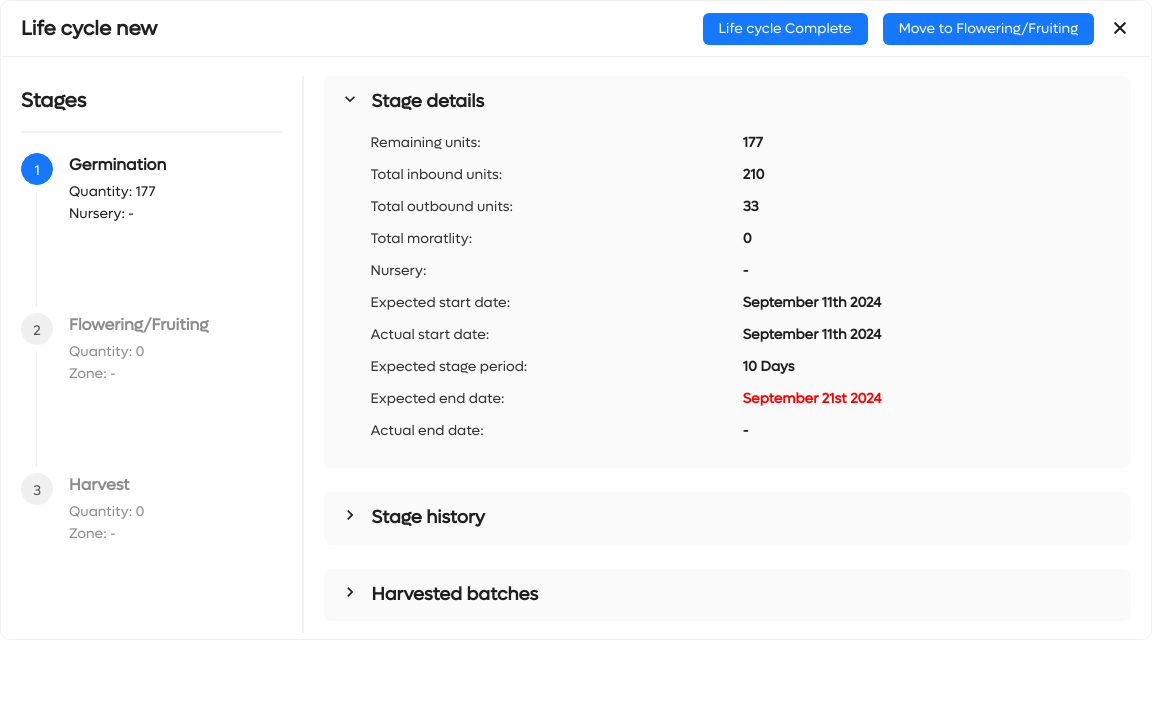
Scenario: Add Update lifecycle page › should render error state at the time of request complete life cycle process
Click the button "Life cycle Complete": (785, 28) [703,12,868,44]
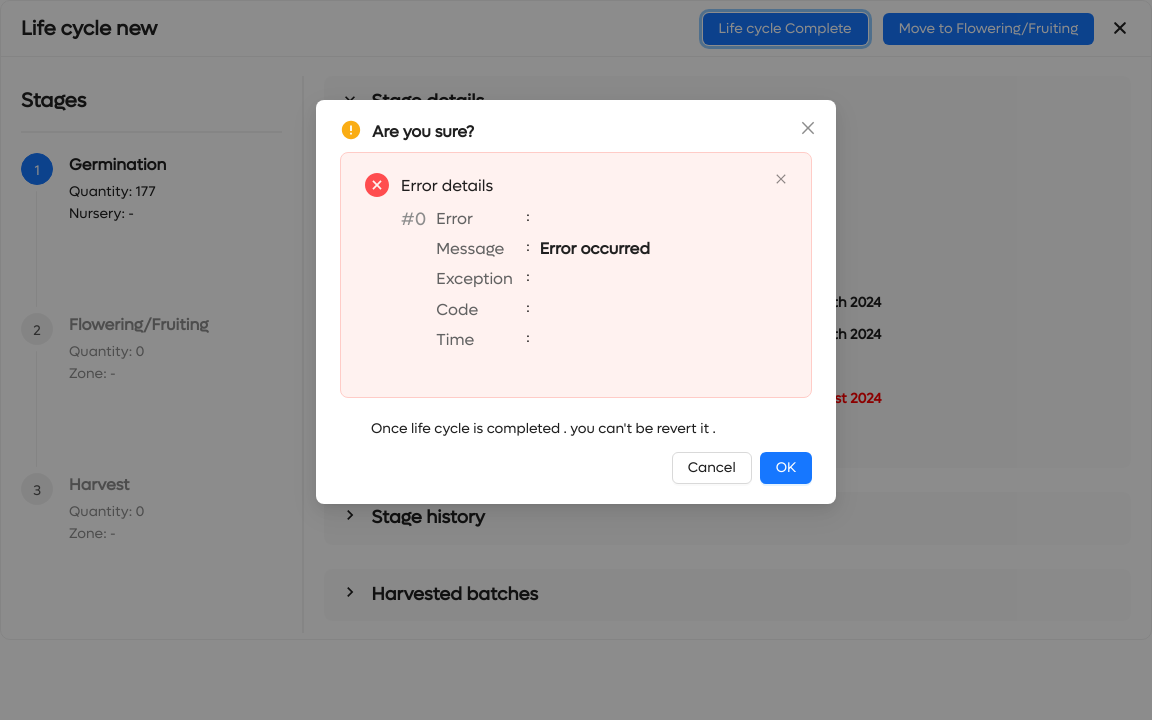
Expected: the text "Error occurred" is shown, [540,236,650,266]
